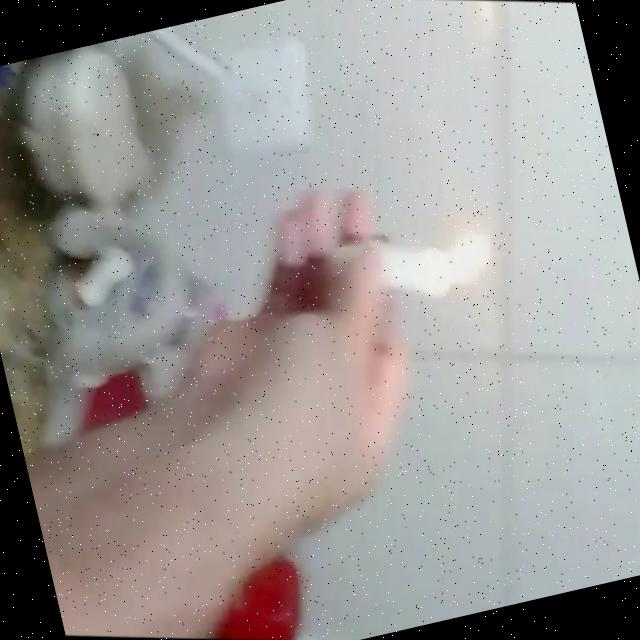fire: (428, 212, 509, 303)
